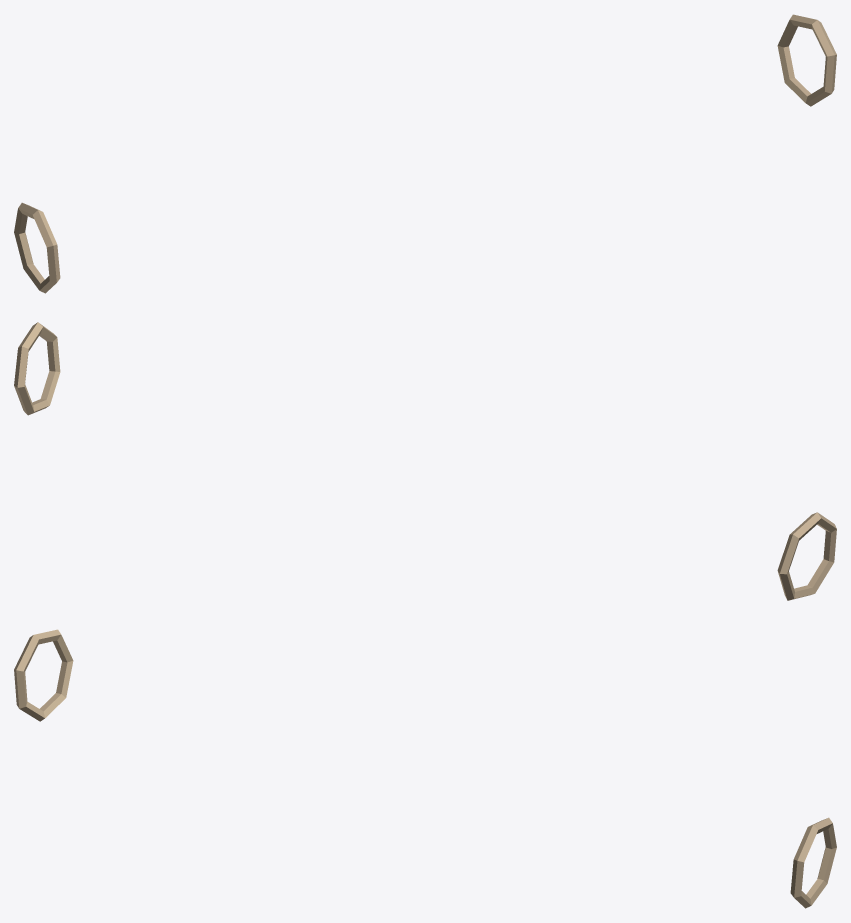
The model's file is miscEarRing.glb.
3 renders of one model, top to bottom at view 1: azimuth 30°, elevation 25°; view 2: azimuth 150°, elevation 25°; view 3: azimuth 330°, elevation 25°, orthographic.
Parts seen in each view (by area): view 1: miscEarRing; view 2: miscEarRing; view 3: miscEarRing.
Part boxes in pixels (<box>): miscEarRing: <box>14,14,836,293</box>; miscEarRing: <box>14,322,836,600</box>; miscEarRing: <box>14,629,836,908</box>.
Size of the model in its own units: 0.2165 by 0.0222 by 0.0217.
